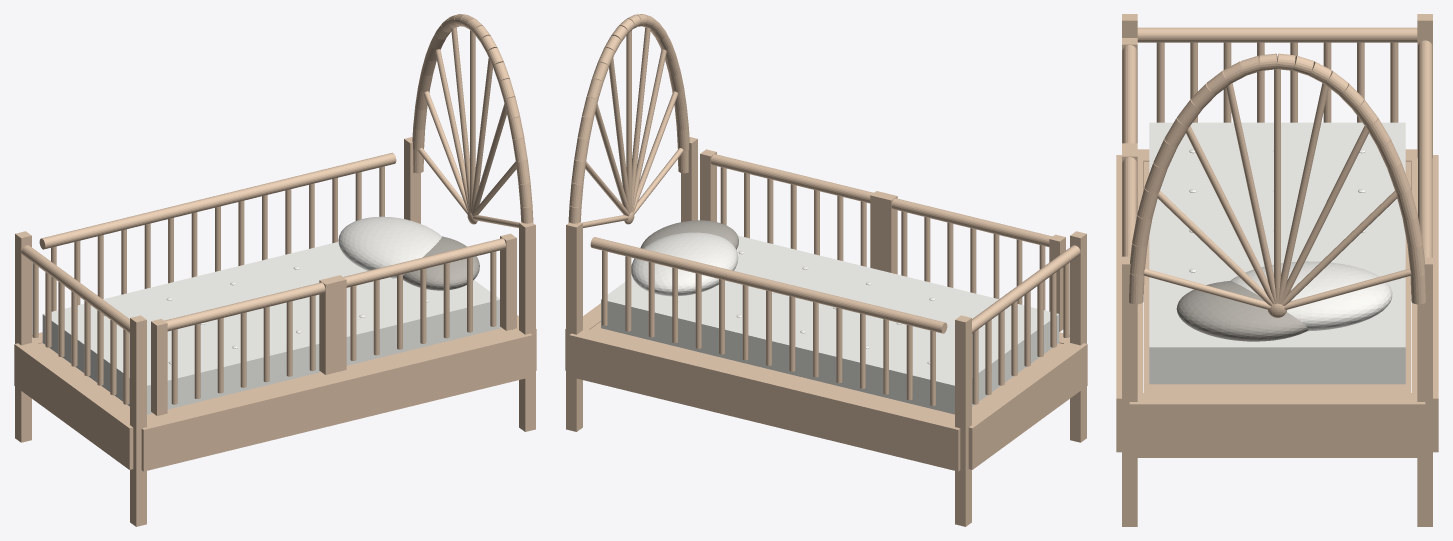
File: tootoo1_oak_baby.glb
The picture shows the model from 3 angles, left to right: view 1: azimuth 30°, elevation 25°; view 2: azimuth 150°, elevation 25°; view 3: azimuth 270°, elevation 25°; orthographic projection. The views are drawn at different scales.
Parts seen in each view (by area): view 1: Mattress, Front_Apron, Foot_Apron, Rear_Guard_Top, Pillow_Ivory, Foot_Front_Post, Head_Front_Post, Foot_Back_Post, Mattress_Support, Front_Right_Top, Front_Left_Top, Pillow_Gray (+12 smaller); view 2: Mattress, Back_Apron, Foot_Apron, Rear_Guard_Top, Pillow_Ivory, Foot_Back_Post, Head_Back_Post, Foot_Front_Post, Mattress_Support, Front_Right_Top, Front_Left_Top, Foot_Top_Rail (+12 smaller); view 3: Mattress, Head_Apron, Pillow_Ivory, Pillow_Gray, Foot_Top_Rail, Mattress_Support, Head_Back_Post, Head_Front_Post, Rear_Guard_Top, Back_Apron, Front_Apron, Sunray_3 (+34 smaller).
Part boxes in pixels (<box>): Mattress: <box>42,242,500,414</box>; Front_Apron: <box>141,328,532,471</box>; Foot_Apron: <box>14,343,133,469</box>; Rear_Guard_Top: <box>39,152,396,249</box>; Pillow_Ivory: <box>338,216,441,278</box>; Foot_Front_Post: <box>130,315,146,526</box>; Head_Front_Post: <box>519,222,535,431</box>; Foot_Back_Post: <box>15,231,31,442</box>; Mattress_Support: <box>39,327,511,418</box>; Front_Right_Top: <box>343,238,505,287</box>; Front_Left_Top: <box>165,282,325,331</box>; Pillow_Gray: <box>403,236,479,290</box>; Mattress: <box>601,235,1059,414</box>; Back_Apron: <box>569,328,960,471</box>; Foot_Apron: <box>968,340,1087,469</box>; Rear_Guard_Top: <box>590,237,947,333</box>; Pillow_Ivory: <box>631,232,738,296</box>; Foot_Back_Post: <box>955,315,971,526</box>; Head_Back_Post: <box>566,222,582,431</box>; Foot_Front_Post: <box>1070,231,1086,442</box>; Mattress_Support: <box>590,322,1062,418</box>; Front_Right_Top: <box>711,154,873,203</box>; Front_Left_Top: <box>891,198,1052,246</box>; Foot_Top_Rail: <box>972,245,1080,333</box>; Mattress: <box>1149,122,1405,384</box>; Head_Apron: <box>1129,393,1425,457</box>; Pillow_Ivory: <box>1230,261,1392,331</box>; Pillow_Gray: <box>1176,281,1308,341</box>; Foot_Top_Rail: <box>1137,27,1417,42</box>; Mattress_Support: <box>1144,161,1410,392</box>; Head_Back_Post: <box>1417,257,1432,526</box>; Head_Front_Post: <box>1122,257,1137,526</box>; Rear_Guard_Top: <box>1418,40,1432,257</box>; Back_Apron: <box>1411,155,1438,452</box>; Front_Apron: <box>1116,155,1143,452</box>; Sunray_3: <box>1278,83,1328,303</box>.
Bounding box in the file's own units: 2.14 × 1.85 × 1.14.
